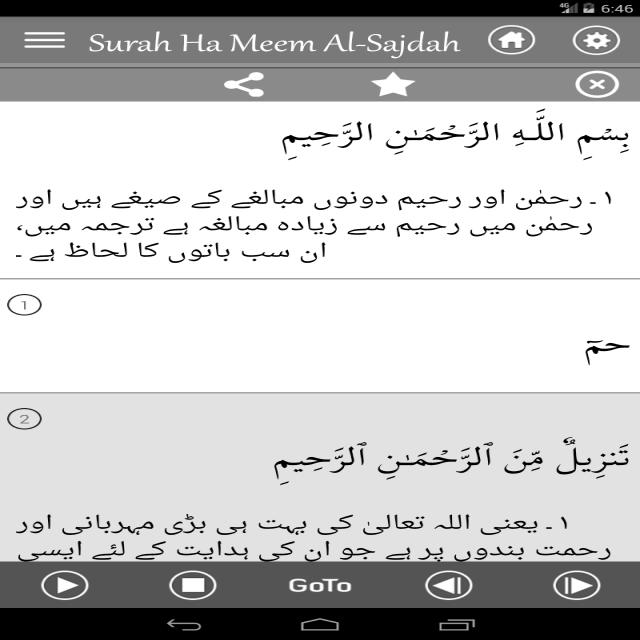ImageButton: (562, 22, 624, 60), (29, 567, 96, 601), (543, 570, 614, 602), (422, 566, 484, 602), (156, 569, 228, 599), (483, 22, 541, 56), (364, 66, 422, 98), (218, 70, 276, 100), (574, 68, 625, 100), (18, 28, 72, 52)
TextView: (15, 189, 619, 267), (8, 508, 617, 560), (251, 438, 634, 486), (271, 113, 633, 158), (82, 27, 468, 59), (285, 574, 360, 596)
